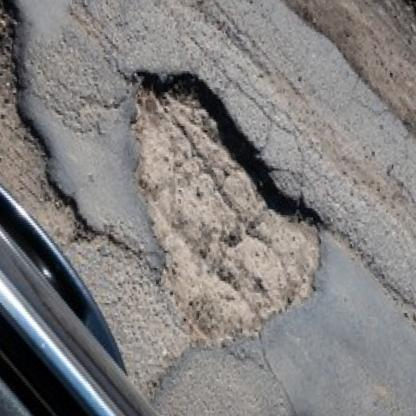pothole: (114, 67, 336, 319), (0, 0, 103, 247)
